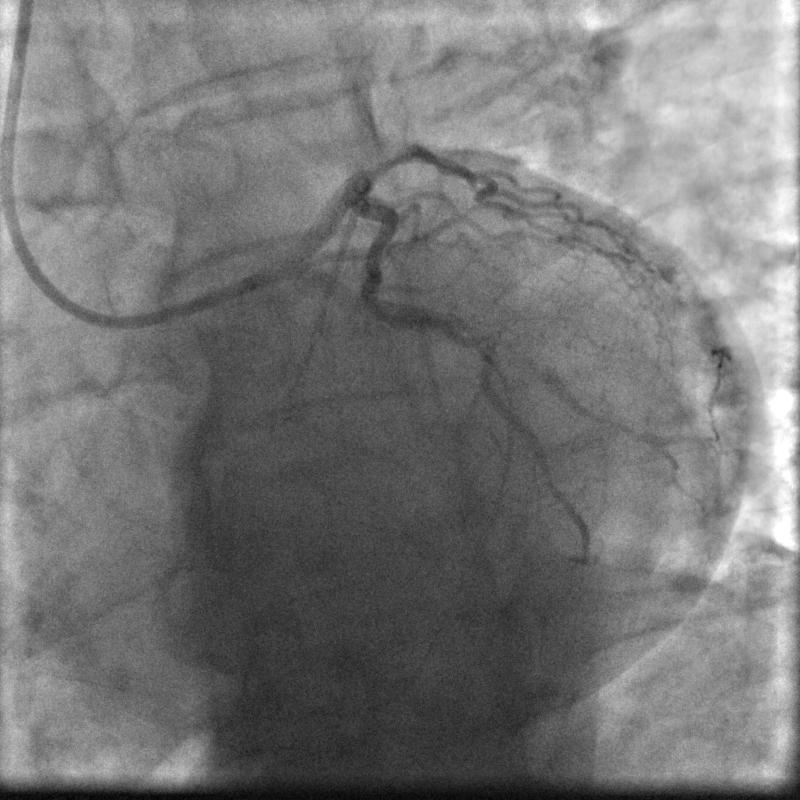Stenosis: (363, 138, 416, 172)
